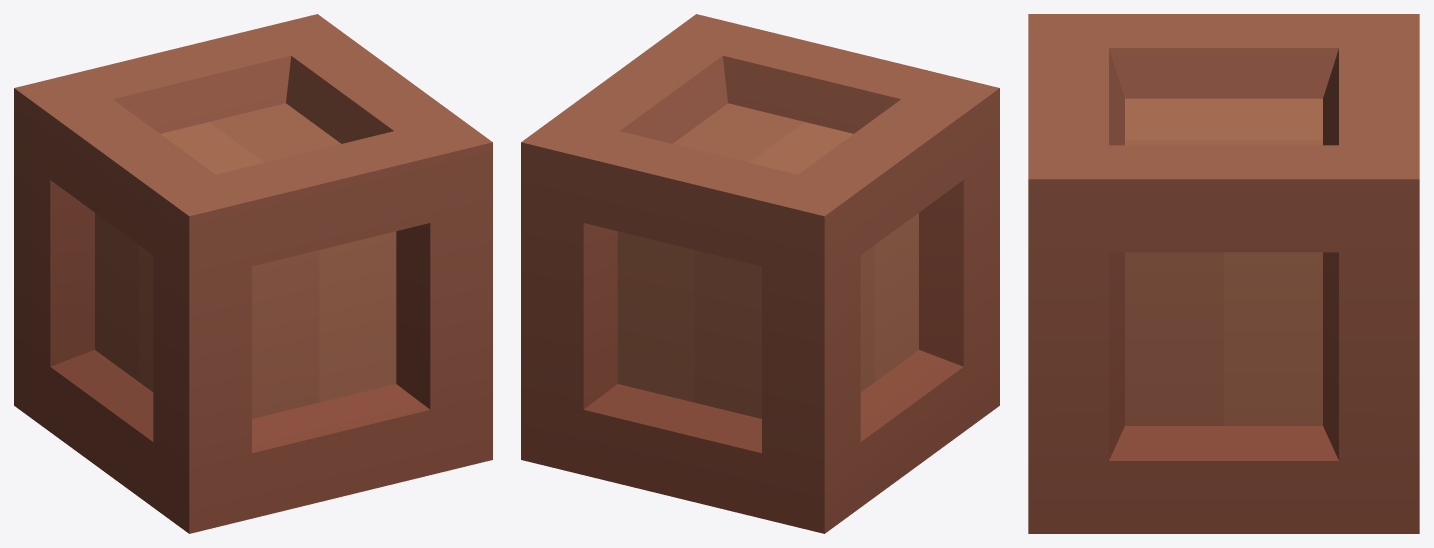
File: crate-small.glb
The picture shows the model from 3 angles, left to right: view 1: azimuth 30°, elevation 25°; view 2: azimuth 150°, elevation 25°; view 3: azimuth 270°, elevation 25°; orthographic projection. The views are drawn at different scales.
Visible parts, largest first — view 1: crate_A_small; view 2: crate_A_small; view 3: crate_A_small.
Boxes of the visible parts, x1,y1,x2,y2 form: crate_A_small: [14, 14, 492, 533]; crate_A_small: [521, 14, 999, 533]; crate_A_small: [1028, 14, 1419, 533].
Bounding box in the file's own units: 0.14 × 0.14 × 0.14.
Materials: 1 (1 with a texture image).
